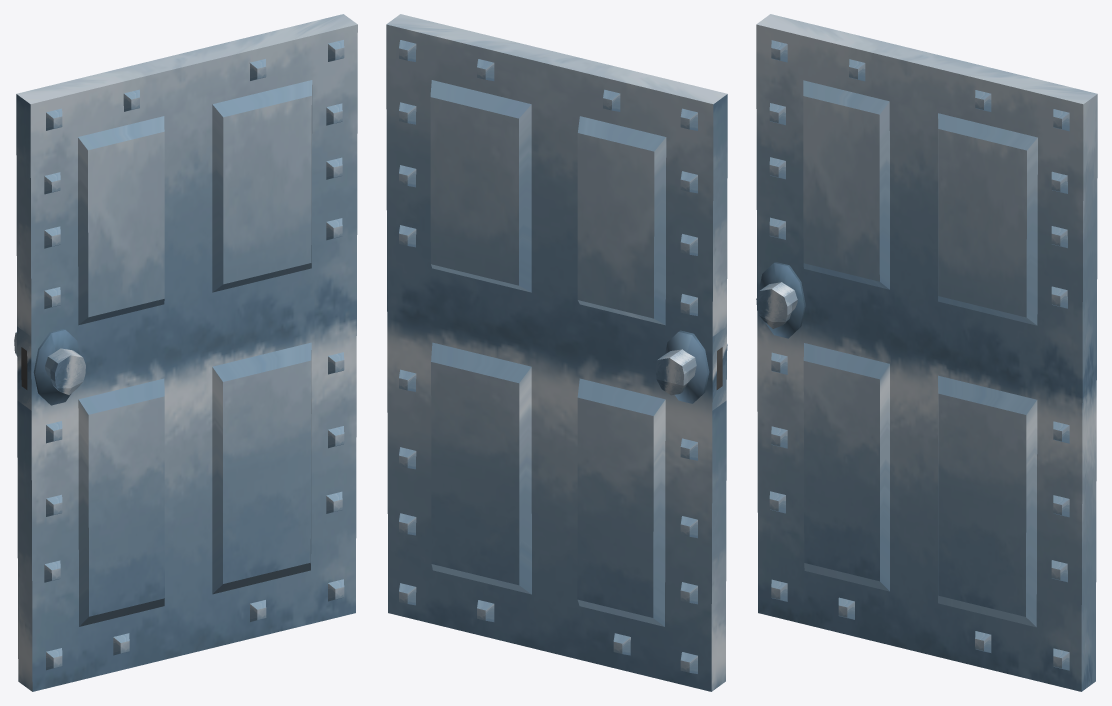
The model's file is Obj_Door_004.gltf.
3 views of the same model, side by side, from view 1: azimuth 30°, elevation 25°; view 2: azimuth 150°, elevation 25°; view 3: azimuth 330°, elevation 25° (orthographic).
Visible parts, largest first — view 1: Obj_Door_004, Obj_DoorHandle.004; view 2: Obj_Door_004, Obj_DoorHandle.004; view 3: Obj_Door_004, Obj_DoorHandle.004.
Boxes of the visible parts, box(x1,y1,x2,y2) form: Obj_Door_004: box(16, 14, 357, 691); Obj_DoorHandle.004: box(14, 332, 85, 395); Obj_Door_004: box(386, 14, 727, 691); Obj_DoorHandle.004: box(655, 344, 727, 395); Obj_Door_004: box(756, 14, 1097, 691); Obj_DoorHandle.004: box(756, 282, 797, 328).
Size of what is drawn, in the model's own units: 1.48 by 2.55 by 0.3342.
1 material, 1 textured.
